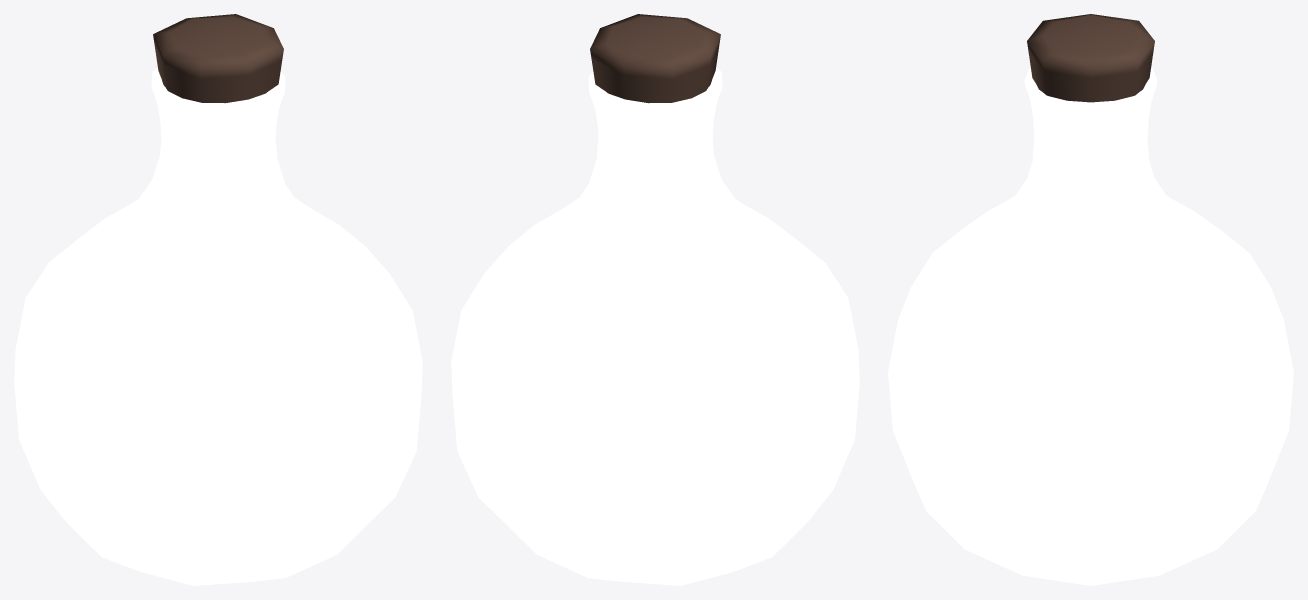
File: phial.glb
The picture shows the model from 3 angles, left to right: view 1: azimuth 30°, elevation 25°; view 2: azimuth 150°, elevation 25°; view 3: azimuth 270°, elevation 25°; orthographic projection.
Visible parts, largest first — view 1: Potion1_Empty; view 2: Potion1_Empty; view 3: Potion1_Empty.
Part boxes in pixels (x1=…): Potion1_Empty: x1=14, y1=14, x2=422, y2=585; Potion1_Empty: x1=451, y1=14, x2=859, y2=585; Potion1_Empty: x1=888, y1=14, x2=1293, y2=585.
Bounding box in the file's own units: 0.6685 × 0.9629 × 0.6685.
